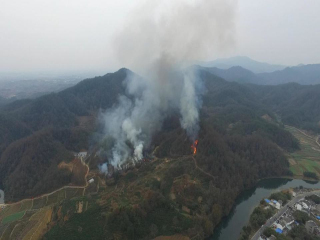smoke: (91, 2, 238, 174)
